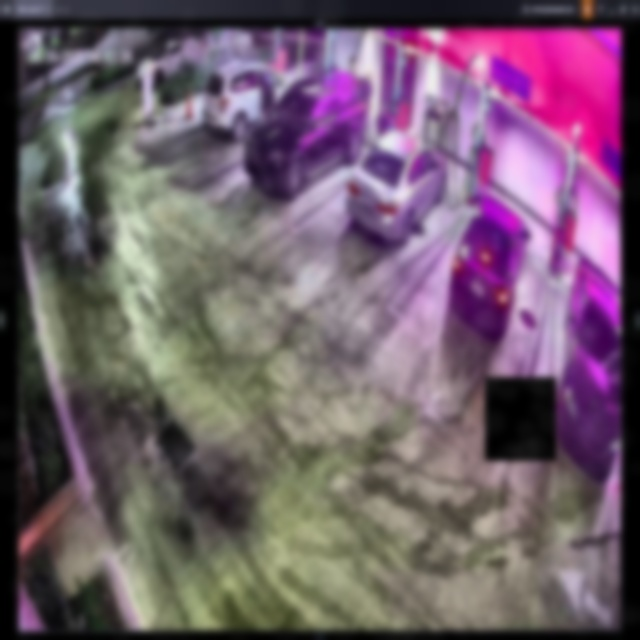Car: (242, 68, 365, 194), (448, 192, 532, 337), (345, 128, 448, 240)
